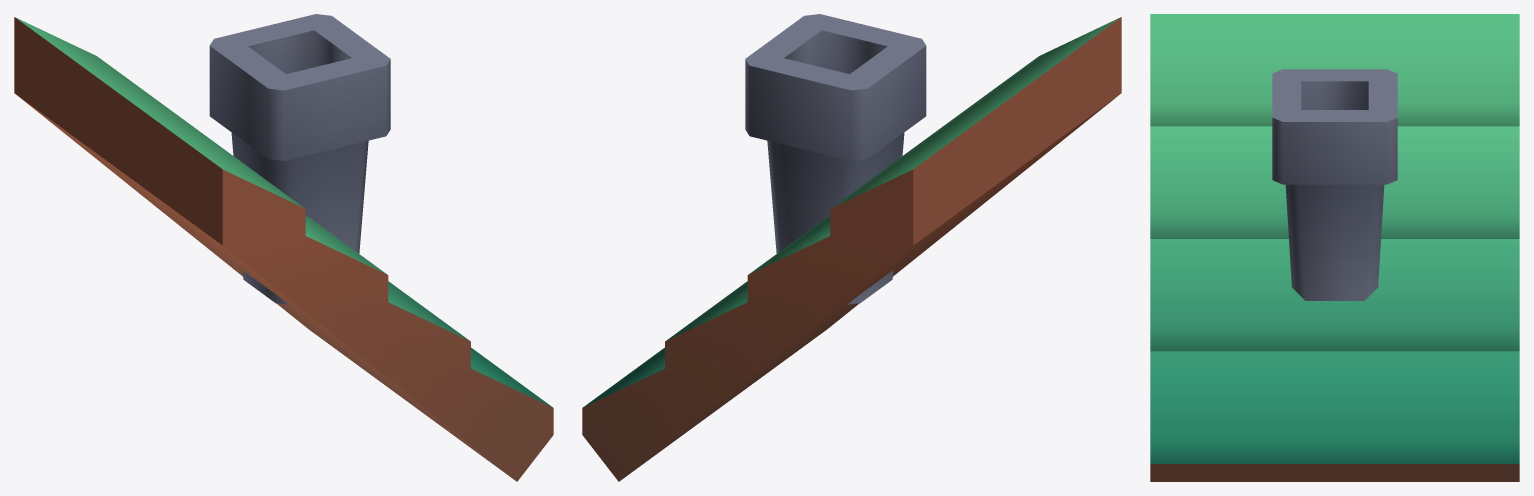
File: kenney-holiday-cabin-roof-chimney.glb
3 renders of one model, left to right at view 1: azimuth 30°, elevation 25°; view 2: azimuth 150°, elevation 25°; view 3: azimuth 270°, elevation 25°, orthographic. The views are drawn at different scales.
Parts seen in each view (by area): view 1: cabin-roof-chimney; view 2: cabin-roof-chimney; view 3: cabin-roof-chimney.
Boxes of the visible parts, bbox=[...] form: cabin-roof-chimney: bbox=[14, 14, 553, 481]; cabin-roof-chimney: bbox=[582, 14, 1121, 481]; cabin-roof-chimney: bbox=[1150, 14, 1519, 481].
Size of the model in its own units: 1.28 by 1.42 by 1.4.
Materials: 1 (1 with a texture image).
